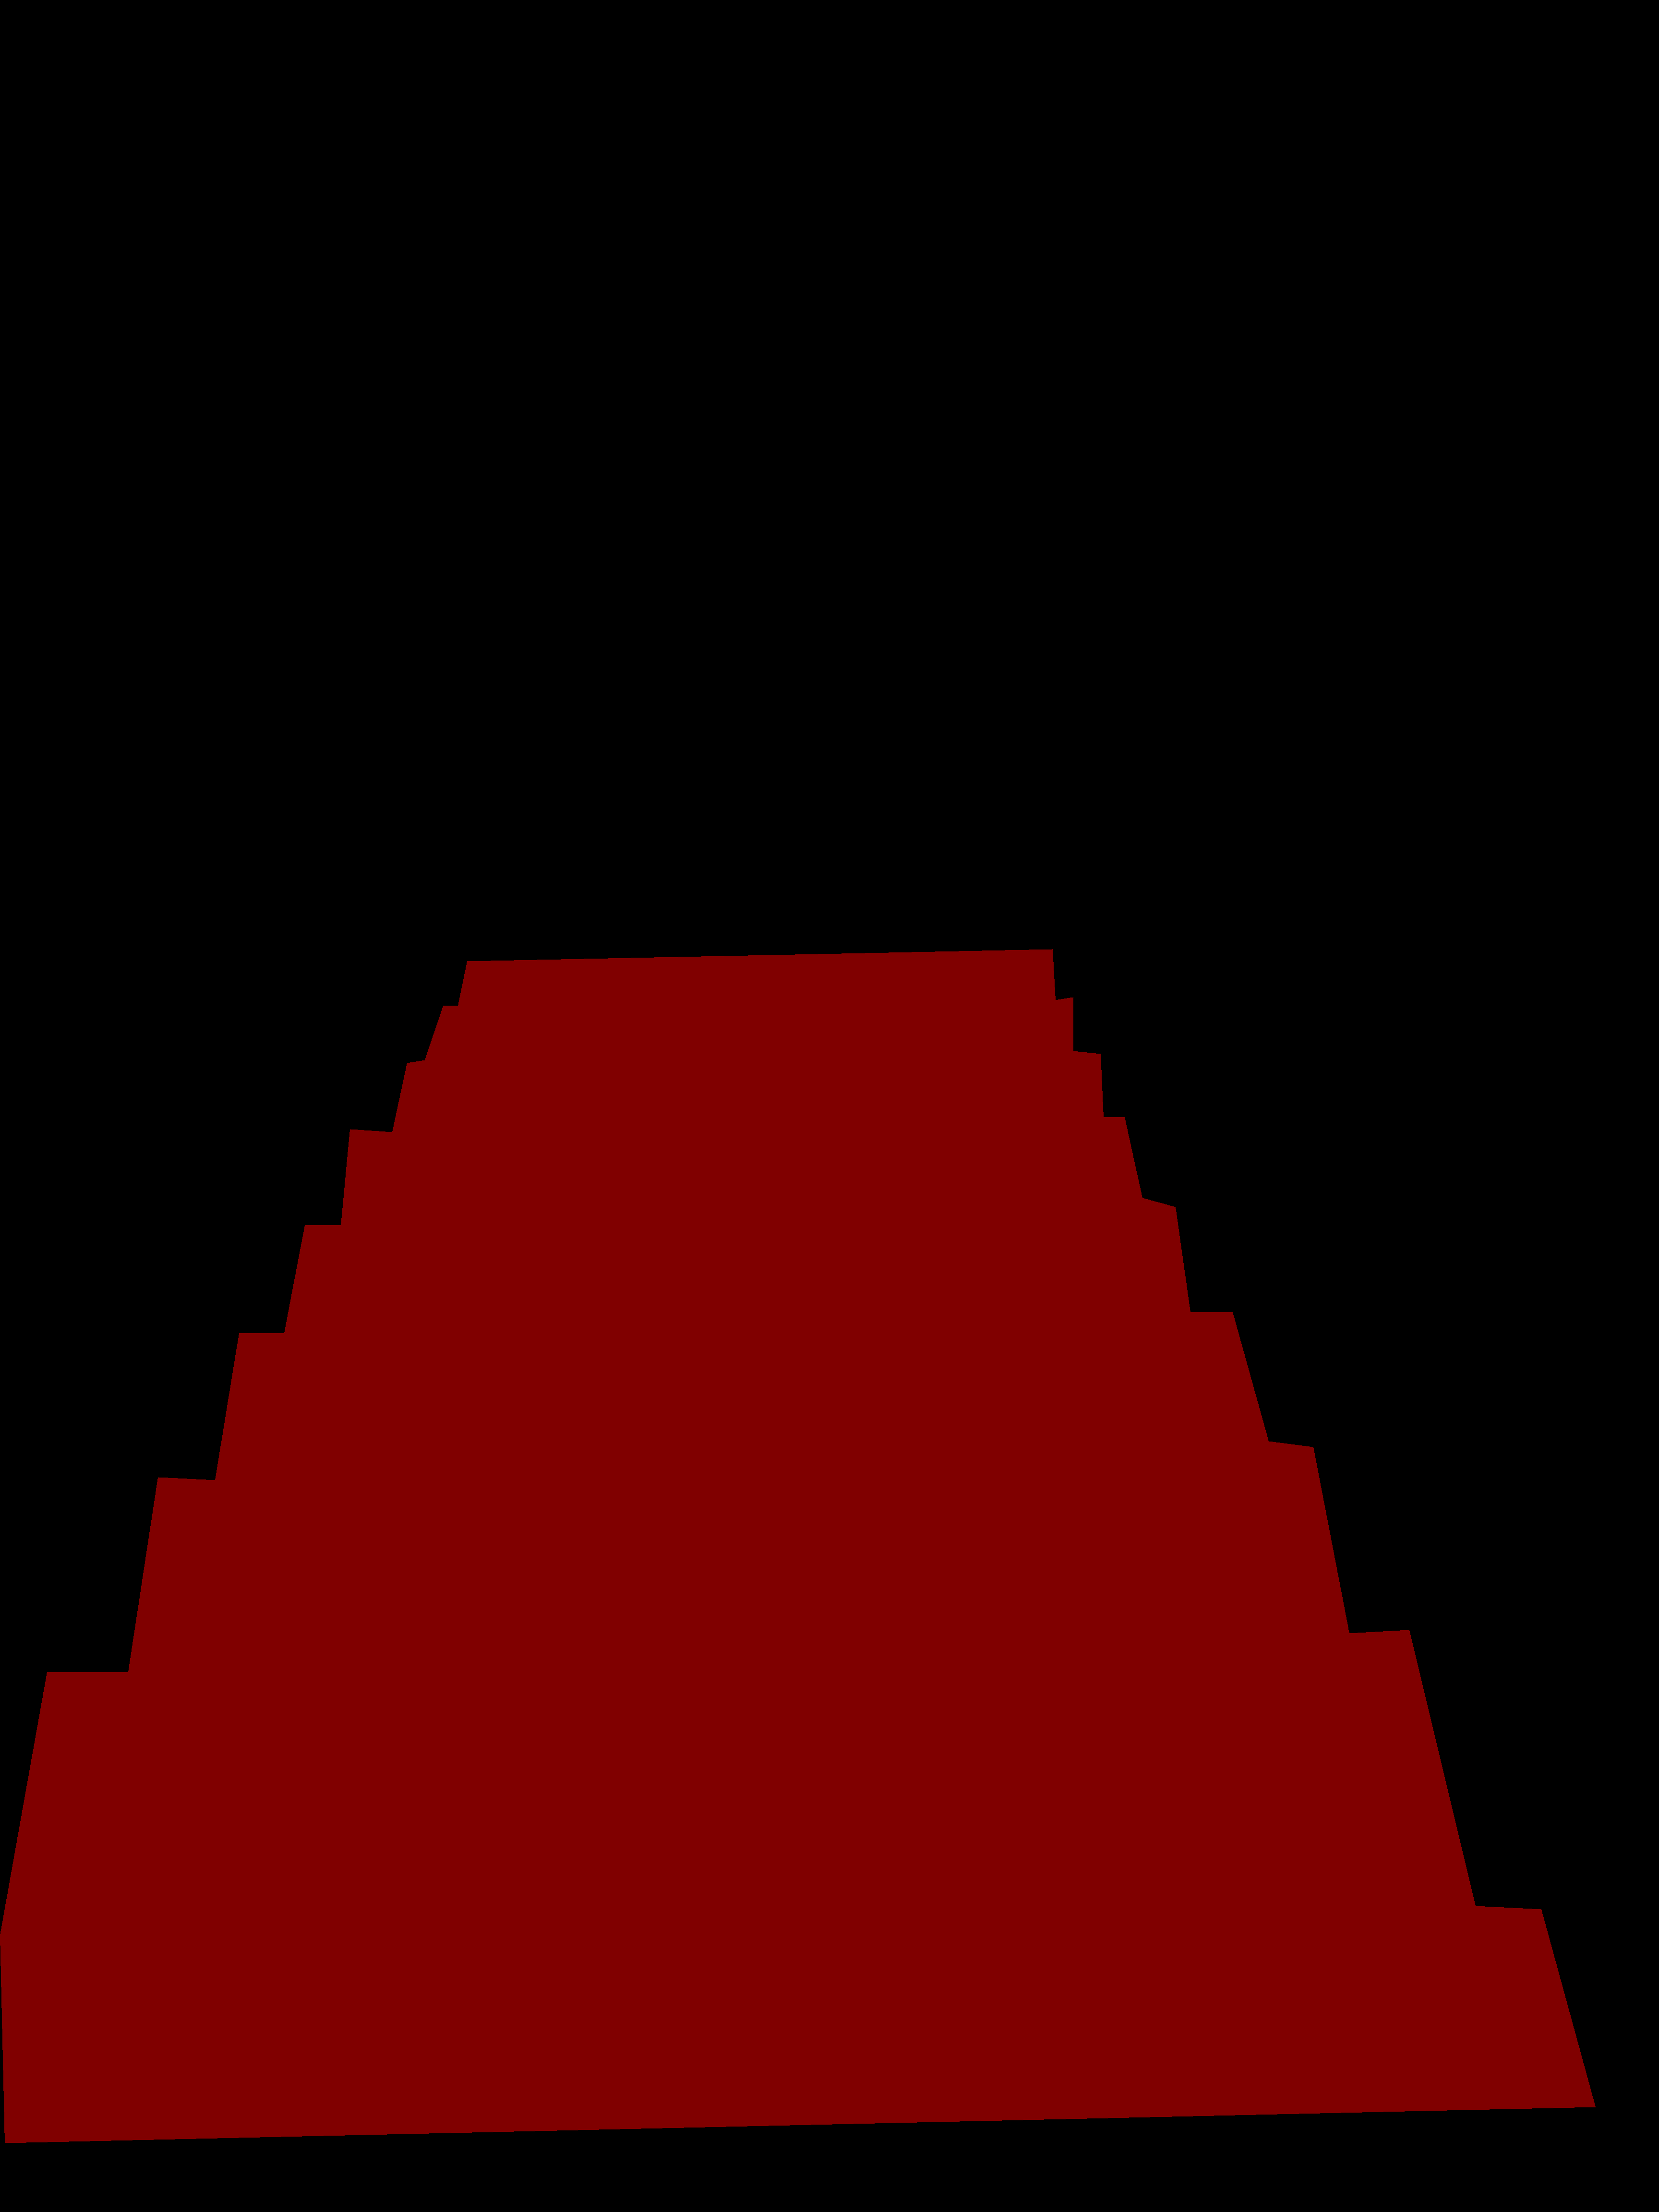stair: (0, 949, 1595, 2142)
